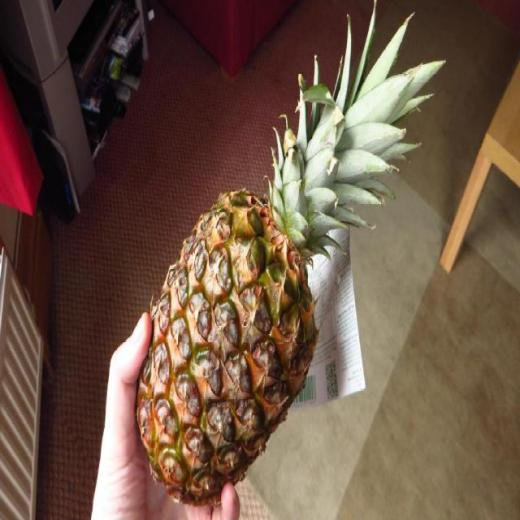Mango: (134, 0, 446, 510)
